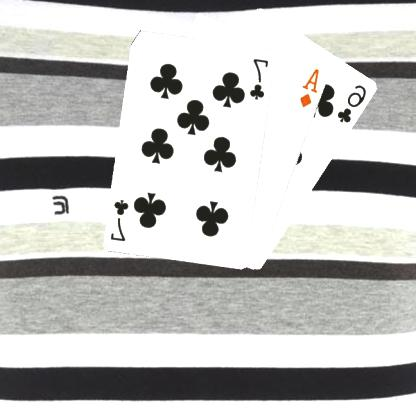6C: (336, 82, 370, 124)
7C: (249, 55, 272, 101), (109, 196, 132, 242)
AD: (299, 66, 323, 109)
